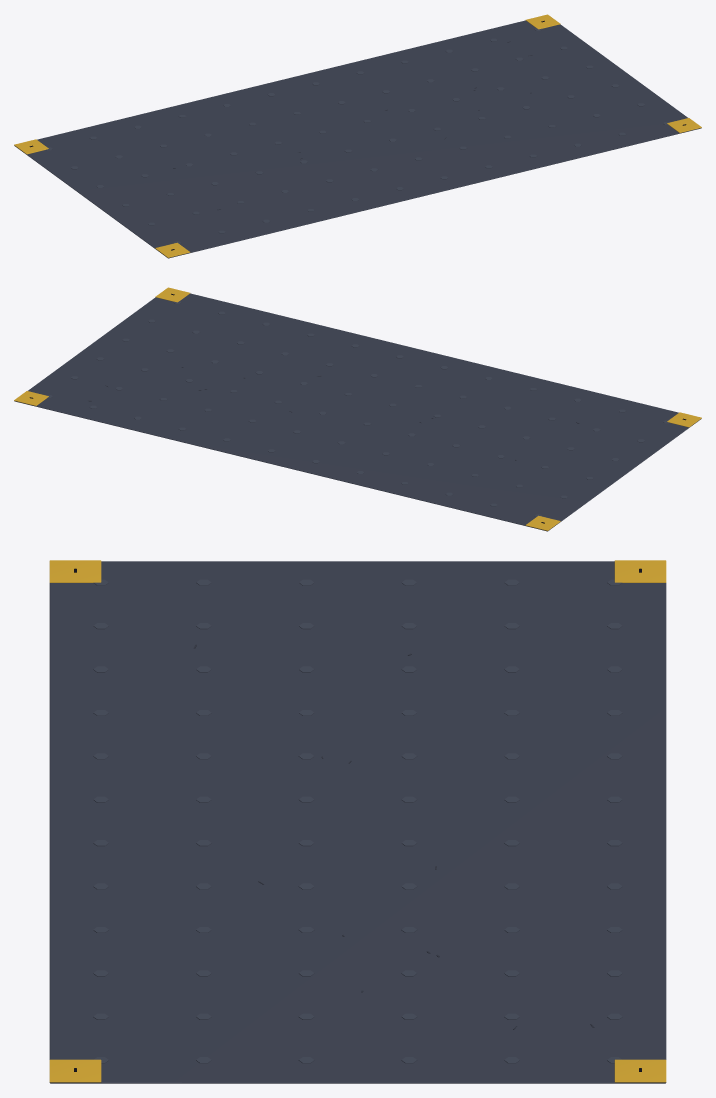
The model's file is SM_Warehouse_FloorMat.fbx.
3 renders of one model, top to bottom at view 1: azimuth 30°, elevation 25°; view 2: azimuth 150°, elevation 25°; view 3: azimuth 270°, elevation 25°, orthographic. The views are drawn at different scales.
Visible parts, largest first — view 1: SM_Warehouse_FloorMat; view 2: SM_Warehouse_FloorMat; view 3: SM_Warehouse_FloorMat.
Boxes of the visible parts, box(x1,y1,x2,y2) form: SM_Warehouse_FloorMat: box(14, 14, 701, 258); SM_Warehouse_FloorMat: box(14, 287, 701, 531); SM_Warehouse_FloorMat: box(49, 560, 666, 1083).
Size of the model in its own units: 960 by 2.85 by 480.
